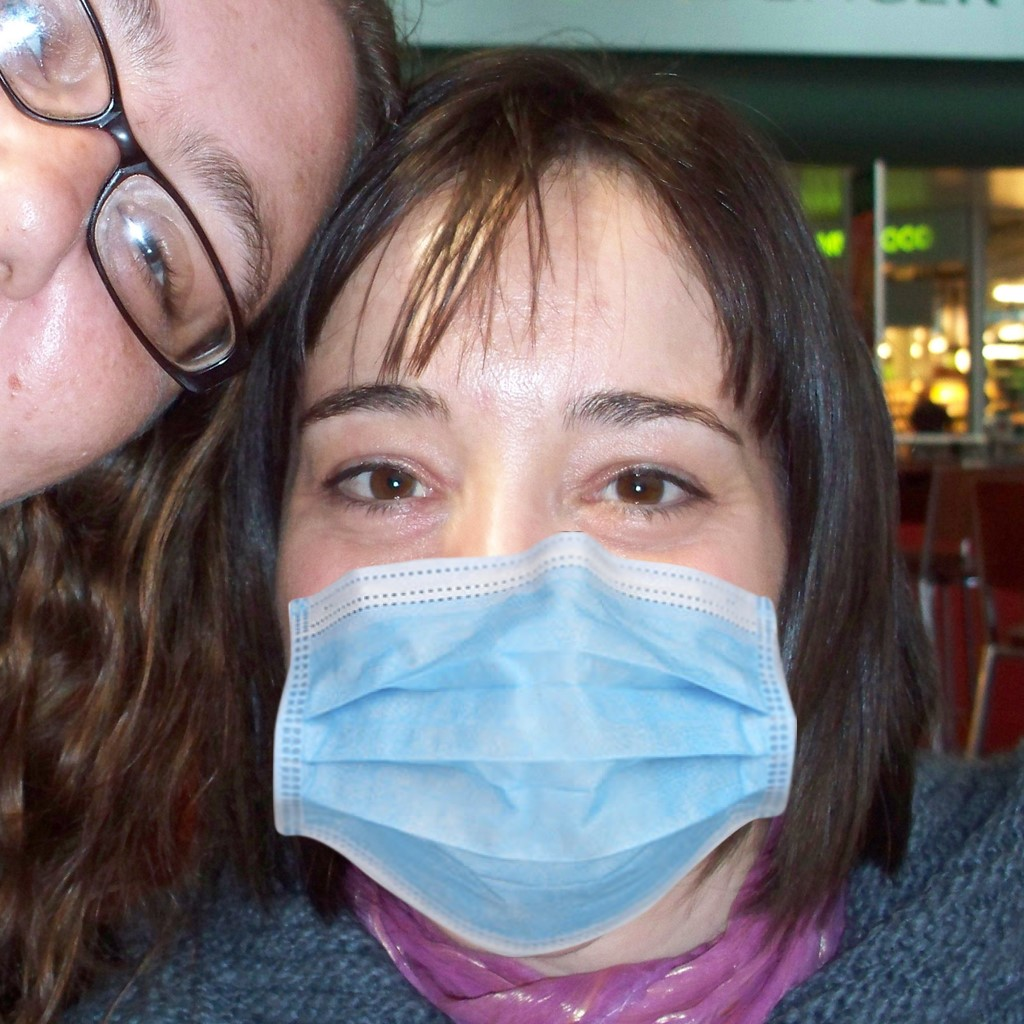con_mascara: (256, 154, 807, 944)
